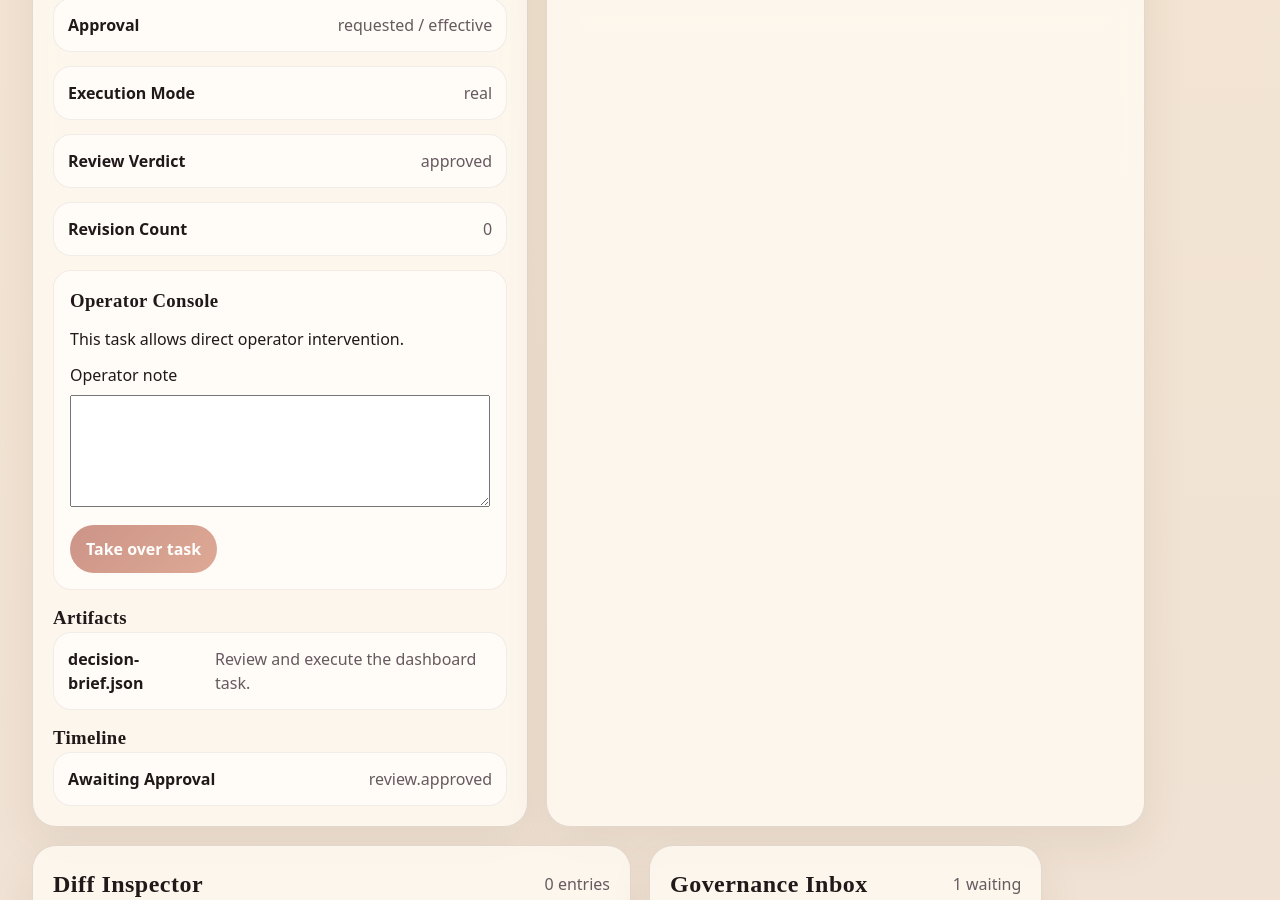
Test: App › keeps a successful operator action from surfacing auxiliary refresh errors
The width and height of the screenshot is (1280, 900).
(page scrolled)
In the text box labelled "Operator note": x=280, y=451 [70,395,490,507], type "Re-plan this task."
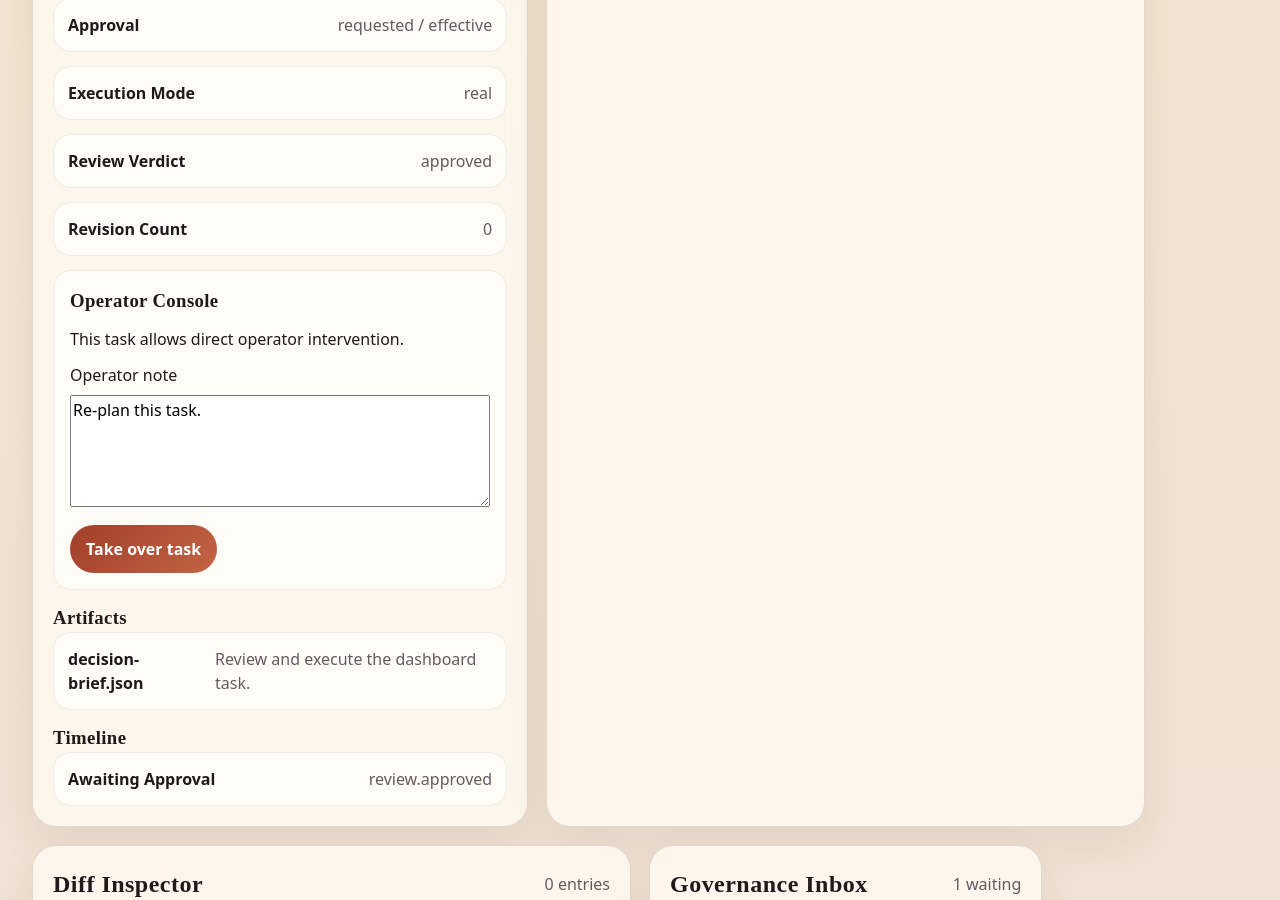
Click the button "Take over task": x=144, y=549 [70,525,217,573]
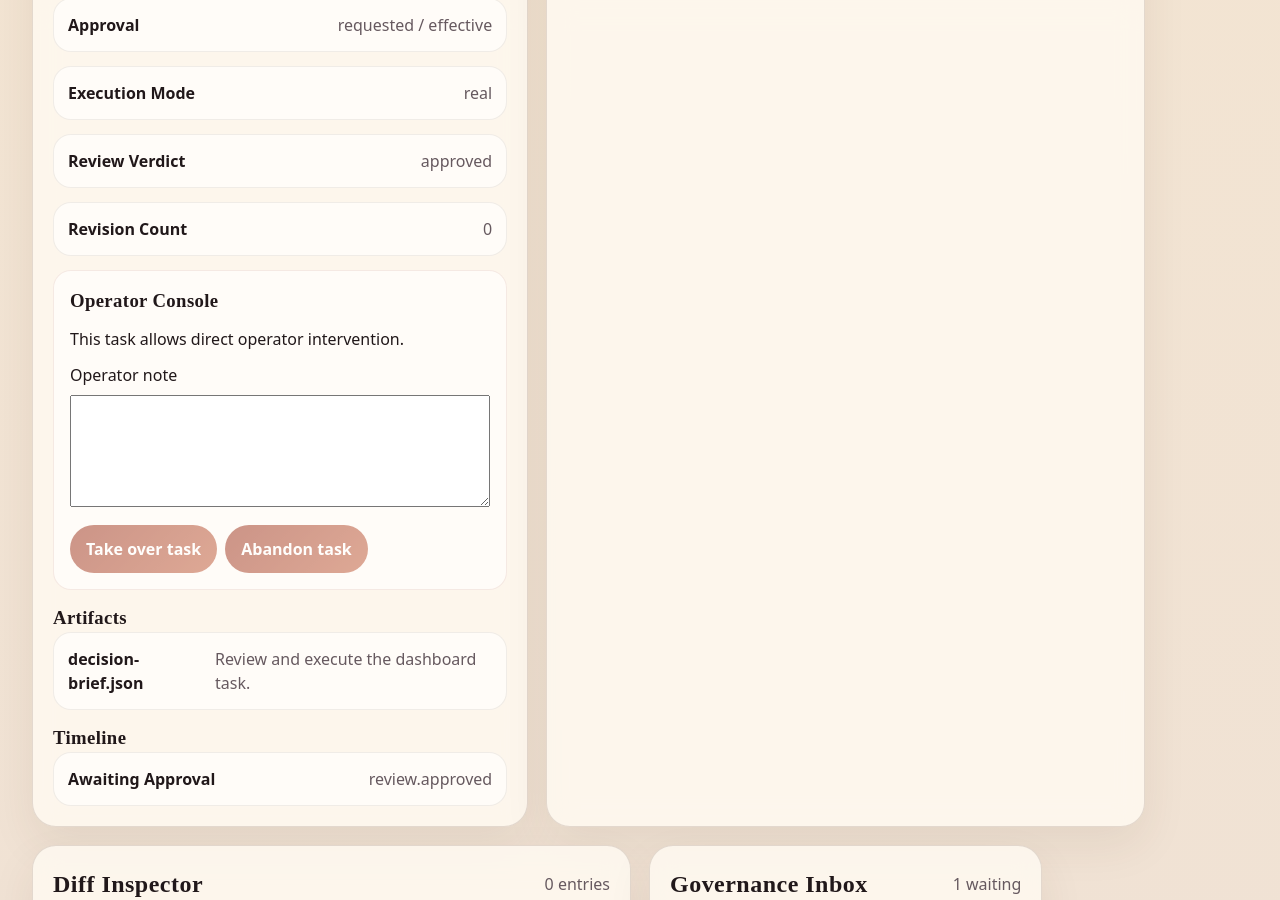
Now the text box labelled "Operator note" is empty, box [70,395,490,507]
